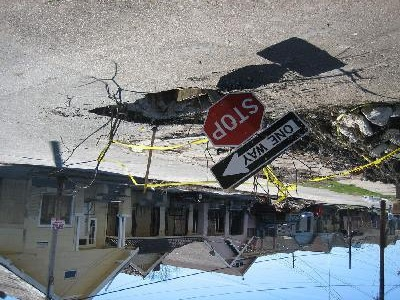pothole: (85, 84, 231, 131)
